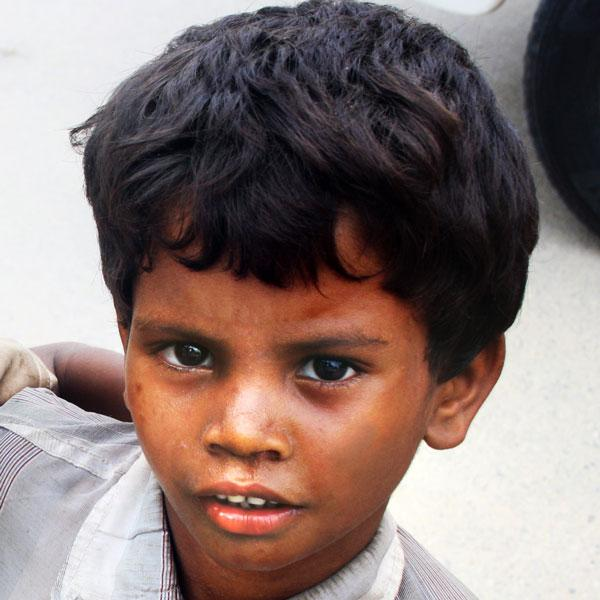Eyes: (286, 337, 376, 398), (138, 325, 227, 386)
